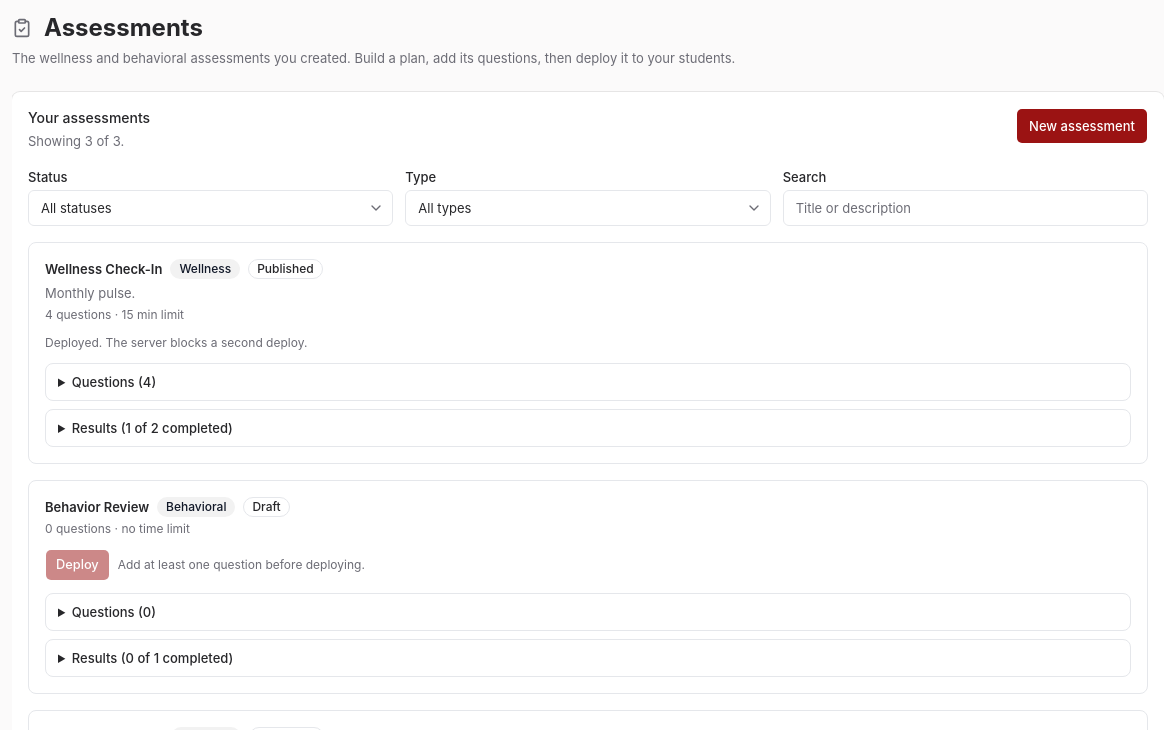
Scenario: AssessmentsPage › filters by published state
The image size is (1164, 730).
Expected: the heading "Behavior Review" is shown, [45,497,149,517]
Press ArrowDown in the dropdown labelled "status", box [28,190,393,226]
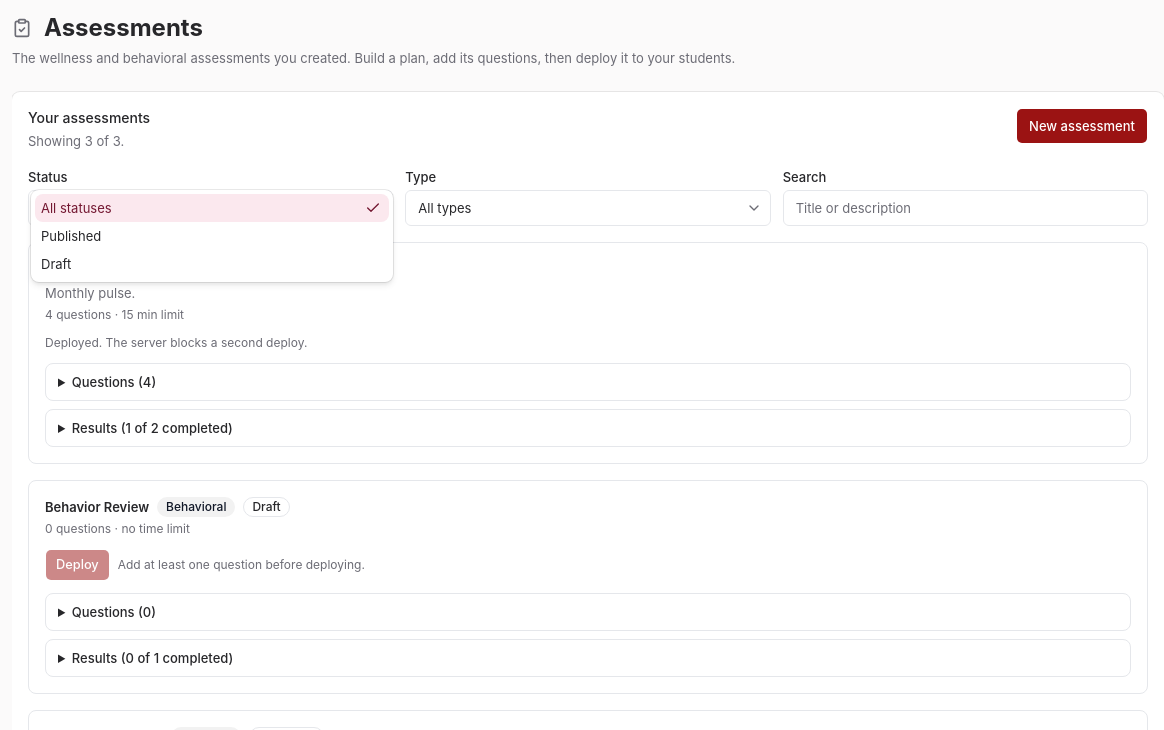
Click the option "Draft": [56, 264] box [41,256,71,272]
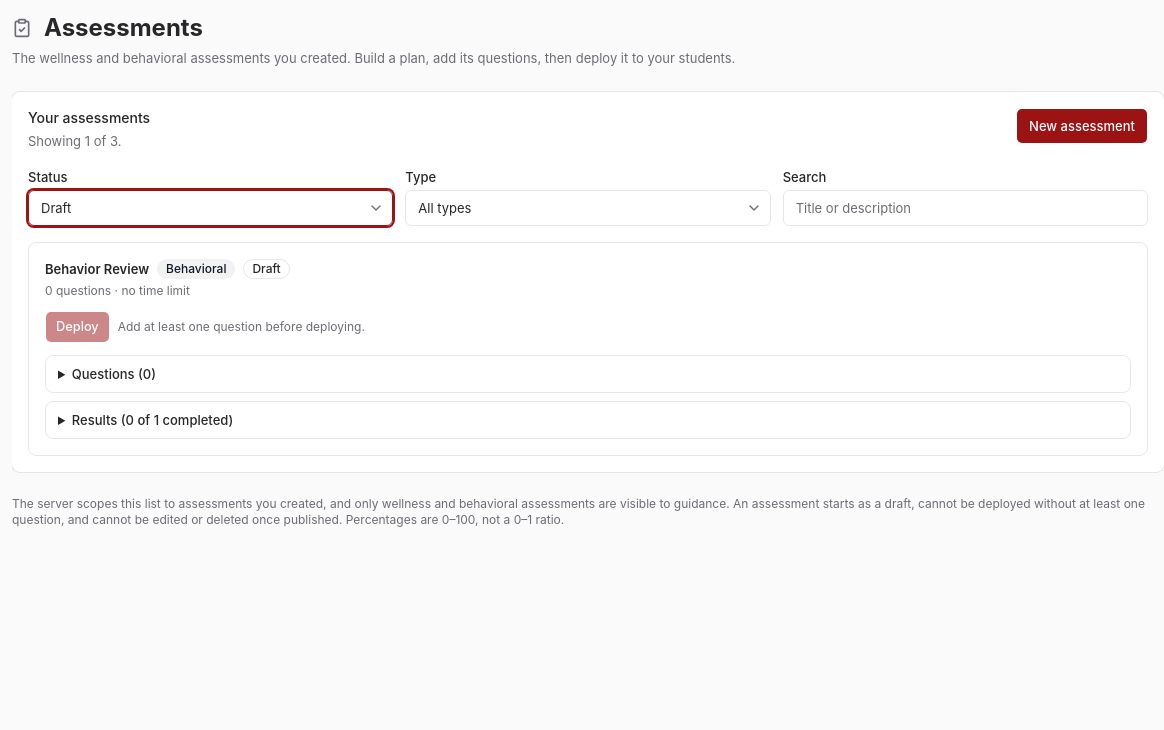
Expected: the heading "Behavior Review" is shown, [45,259,149,279]
Expected: the heading "Wellness Check-In" is gone
